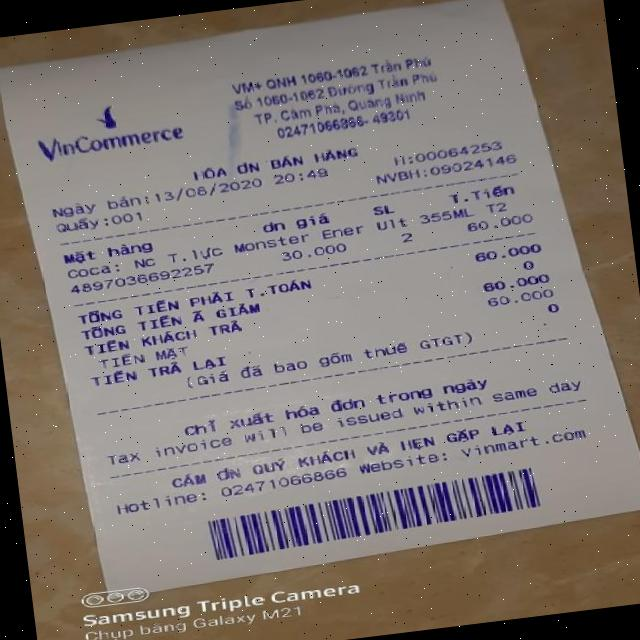Date: (148, 175, 265, 203)
Store_Name: (34, 118, 195, 166)
amount_number: (466, 240, 544, 266)
label_total: (71, 274, 320, 324)
